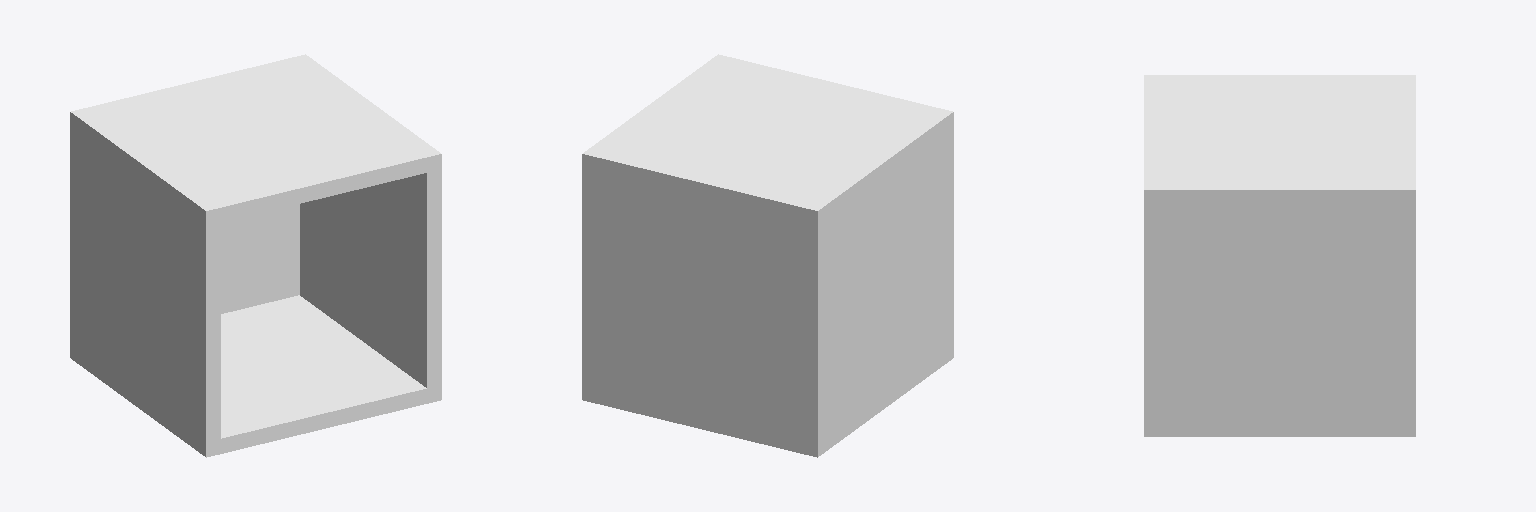
The model's file is VaultFront.obj.
3 views of the same model, side by side, from view 1: azimuth 30°, elevation 25°; view 2: azimuth 150°, elevation 25°; view 3: azimuth 270°, elevation 25° (orthographic).
Visible parts, largest first — view 1: object 1; view 2: object 1; view 3: object 1.
Boxes of the visible parts, box(x1,y1,x2,y2) form: object 1: box(70, 54, 441, 457); object 1: box(582, 54, 953, 457); object 1: box(1144, 75, 1415, 436).
Bounding box in the file's own units: 1.6 × 1.6 × 1.6.